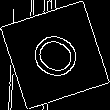O_SE: (22, 24, 88, 86)
